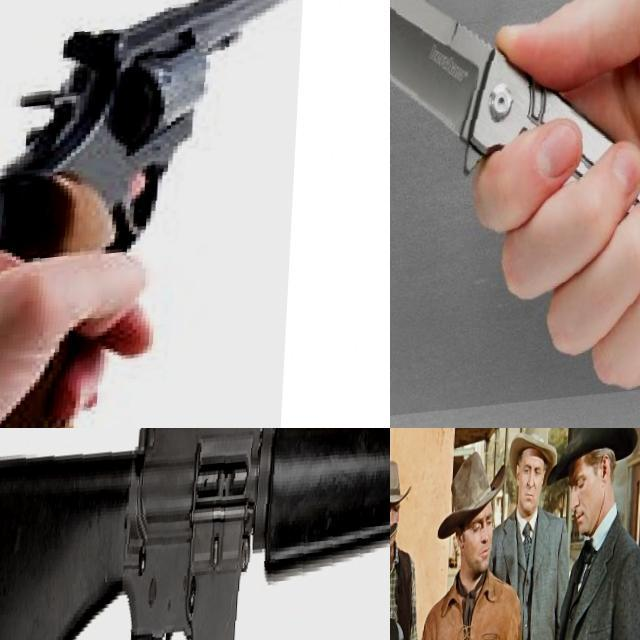-: (390, 0, 640, 428)
gun-knife-thesis - v11 Yolov5 augmented: (0, 0, 307, 428), (0, 428, 390, 640)
